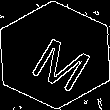M_NE: (19, 22, 91, 88)
